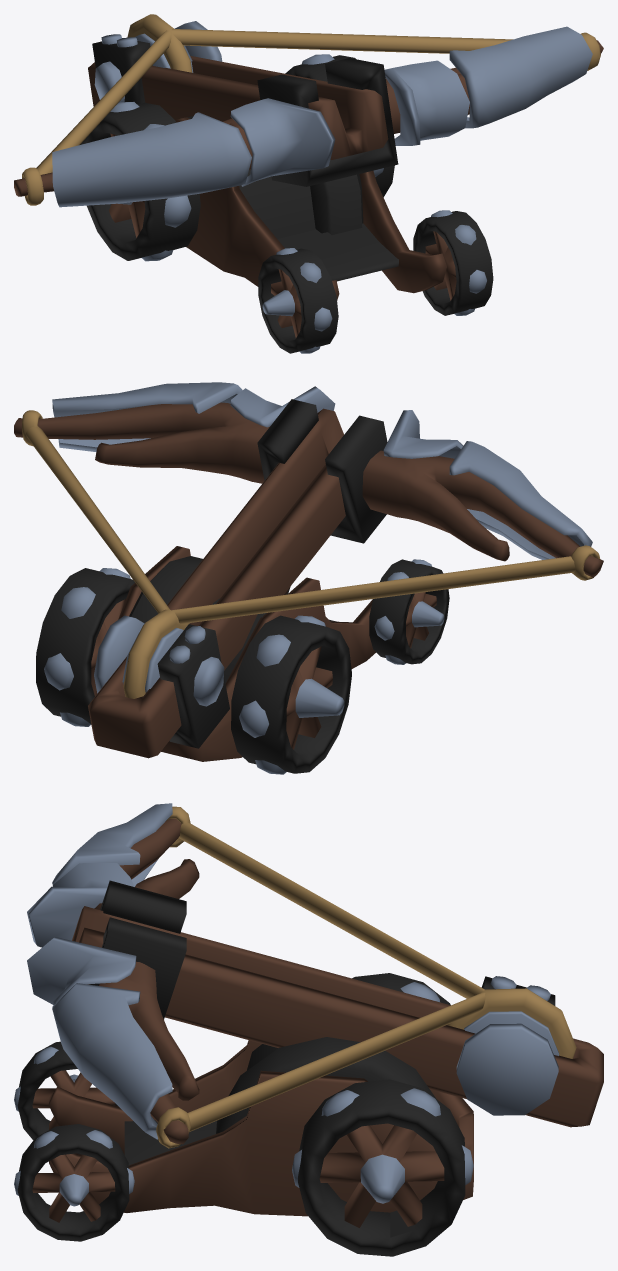
File: Ballista_Asset.fbx
3 views of the same model, one above another, from view 1: azimuth 30°, elevation 25°; view 2: azimuth 150°, elevation 25°; view 3: azimuth 270°, elevation 25° (orthographic). The views are drawn at different scales.
Visible parts, largest first — view 1: Ballista_OBJ:poly; view 2: Ballista_OBJ:poly; view 3: Ballista_OBJ:poly.
Boxes of the visible parts, x1,y1,x2,y2 form: Ballista_OBJ:poly: (14,14,603,353); Ballista_OBJ:poly: (14,382,603,774); Ballista_OBJ:poly: (14,803,603,1256).
Bounding box in the file's own units: 1081 × 437 × 851.
